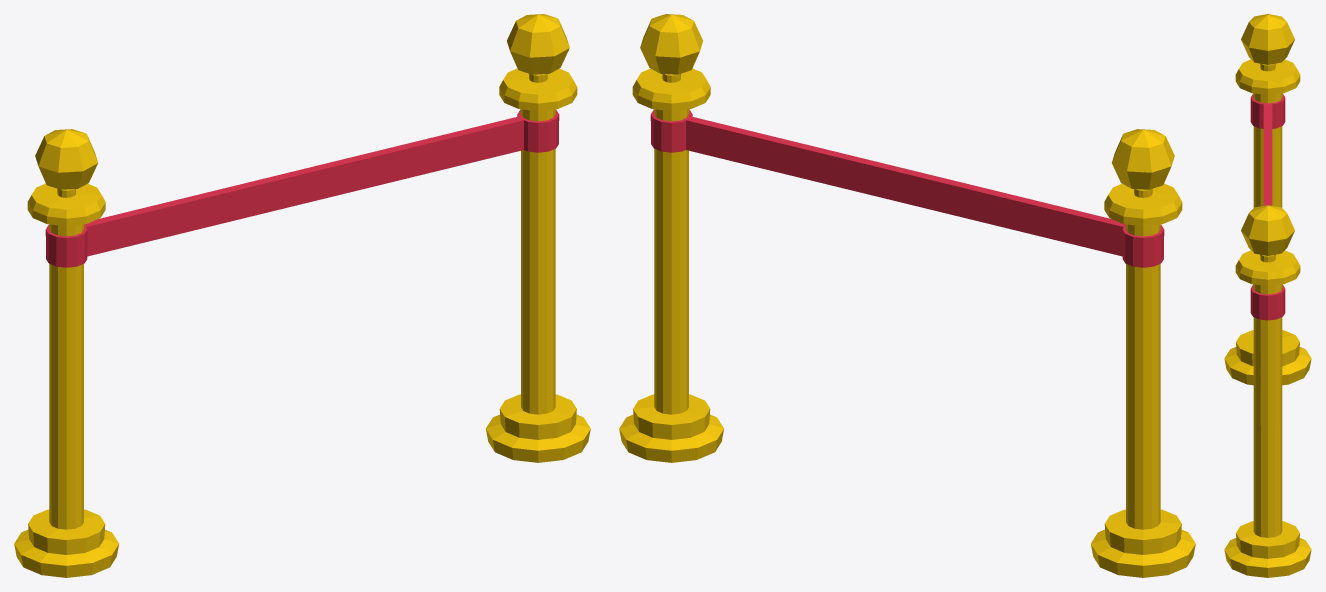
File: rope_partition.fbx
The picture shows the model from 3 angles, left to right: view 1: azimuth 30°, elevation 25°; view 2: azimuth 150°, elevation 25°; view 3: azimuth 270°, elevation 25°; orthographic projection. The views are drawn at different scales.
Visible parts, largest first — view 1: rope_partition.001; view 2: rope_partition.001; view 3: rope_partition.001.
Part boxes in pixels (box(x1,y1,x2,y2)): rope_partition.001: box(14, 14, 590, 577); rope_partition.001: box(619, 14, 1195, 577); rope_partition.001: box(1224, 14, 1311, 577).
Bounding box in the file's own units: 2.06 × 1.5 × 0.3336.
